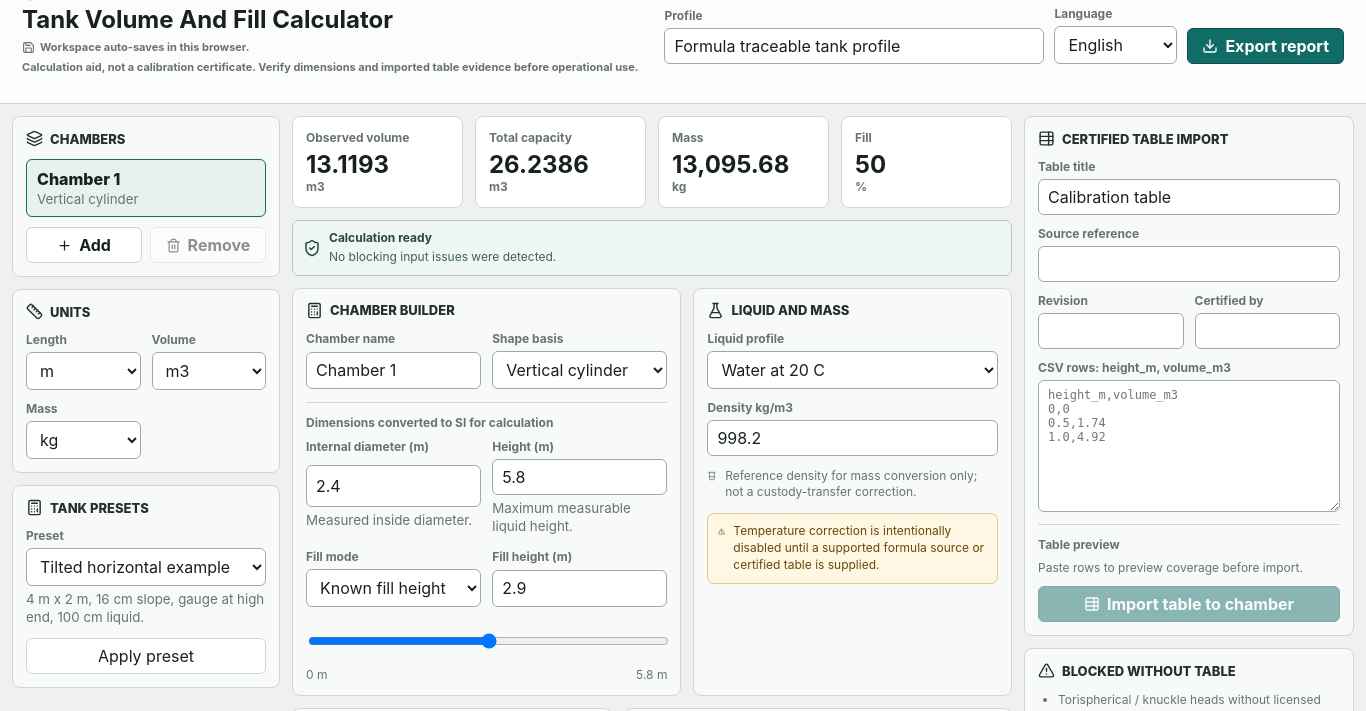
Test: App audit console › shows new formula-backed shape fields
Select "Vertical cylinder, conical bottom" in the dropdown labelled "Shape basis" at [580, 370], box x1=492 y1=351 x2=667 y2=389
(page scrolled)
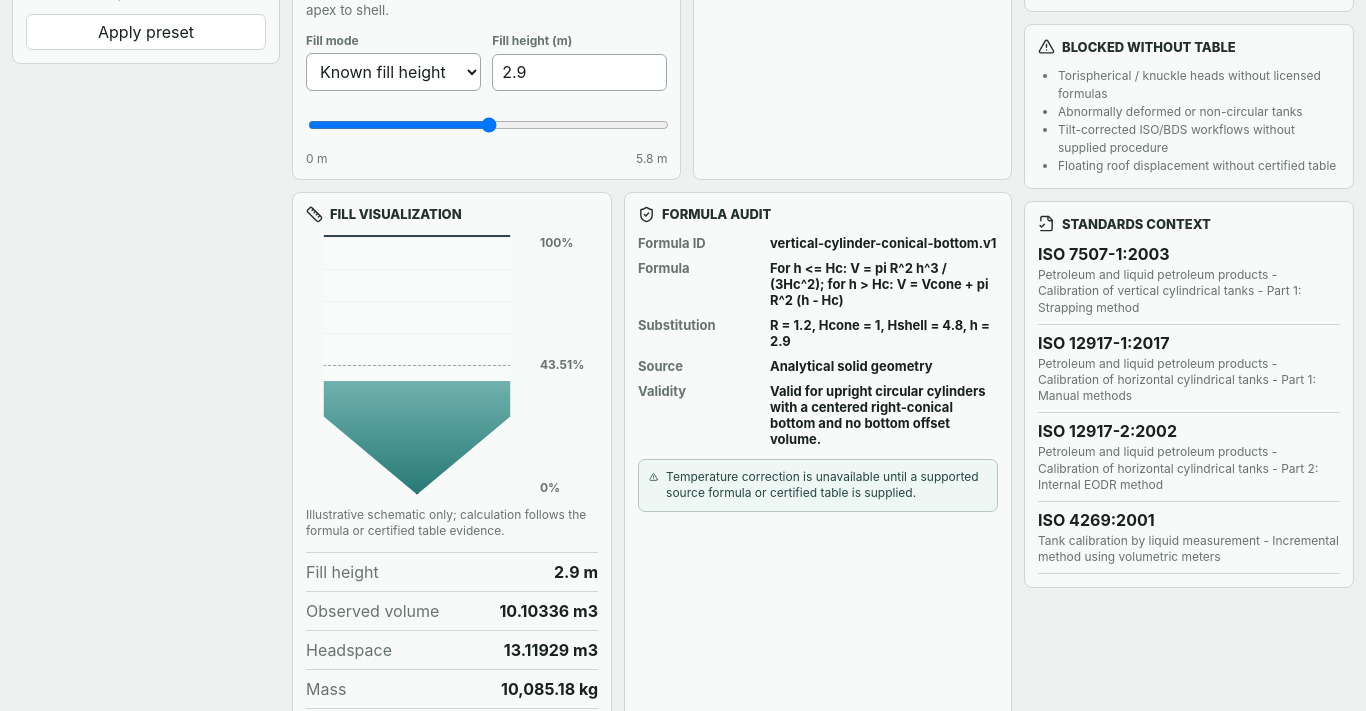
Check: the text "upright circular cylinders with a centered right-conical bottom" is shown, box x1=770 y1=382 x2=986 y2=446
